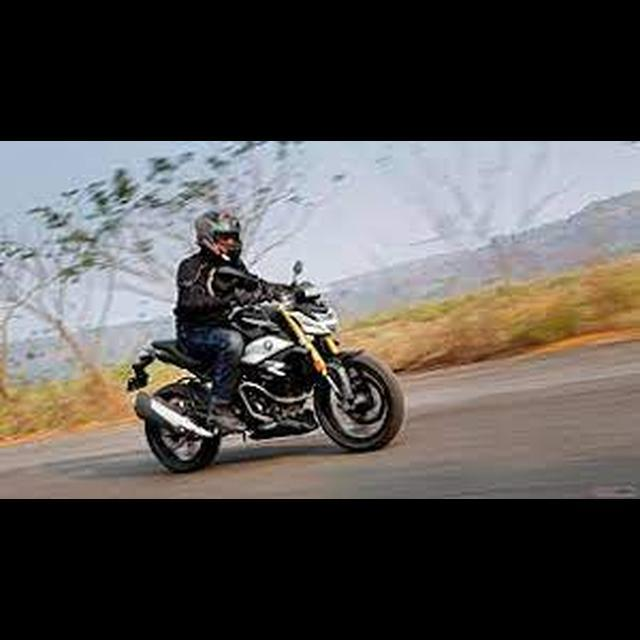motorcycle: (123, 257, 409, 474)
